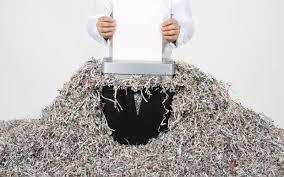Paper shavings: (5, 31, 284, 177)
